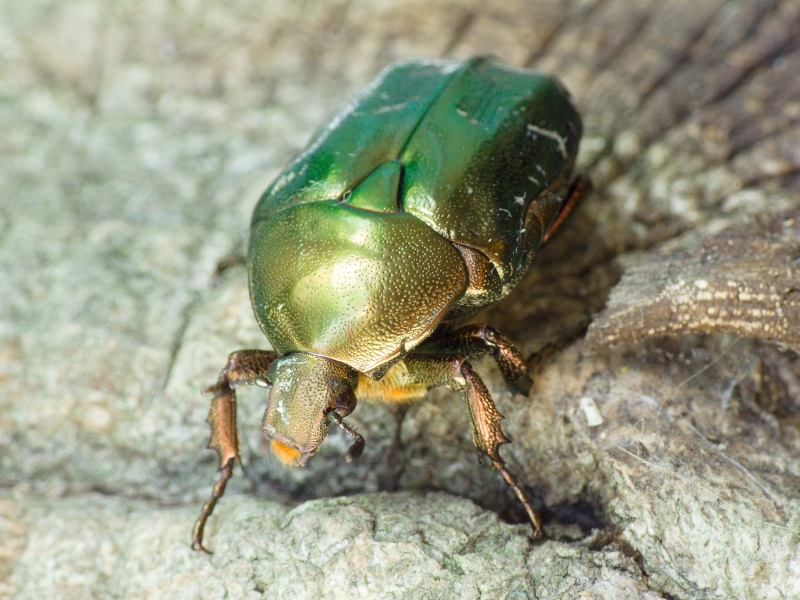Protaetia_fieberi: (185, 50, 586, 545)
